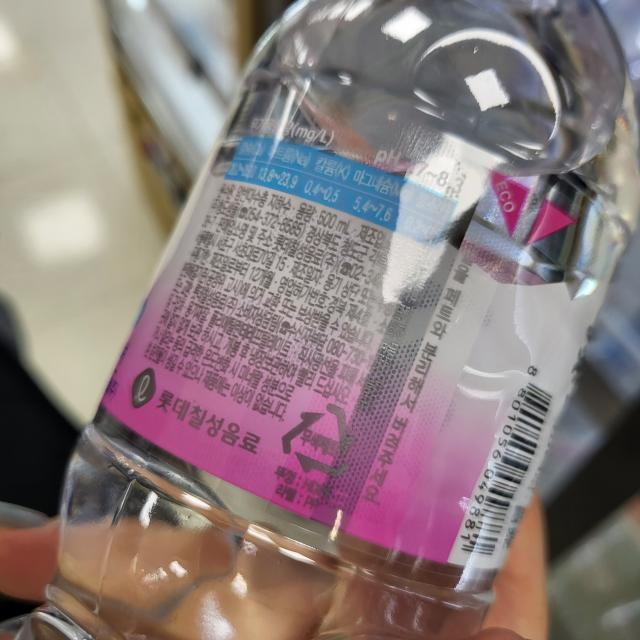ColorlessPET: (278, 397, 358, 482)
